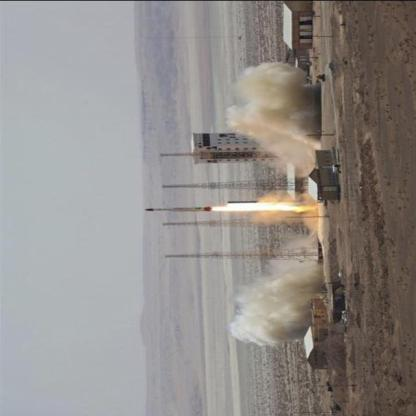MIL_TBM: (134, 204, 216, 213)
